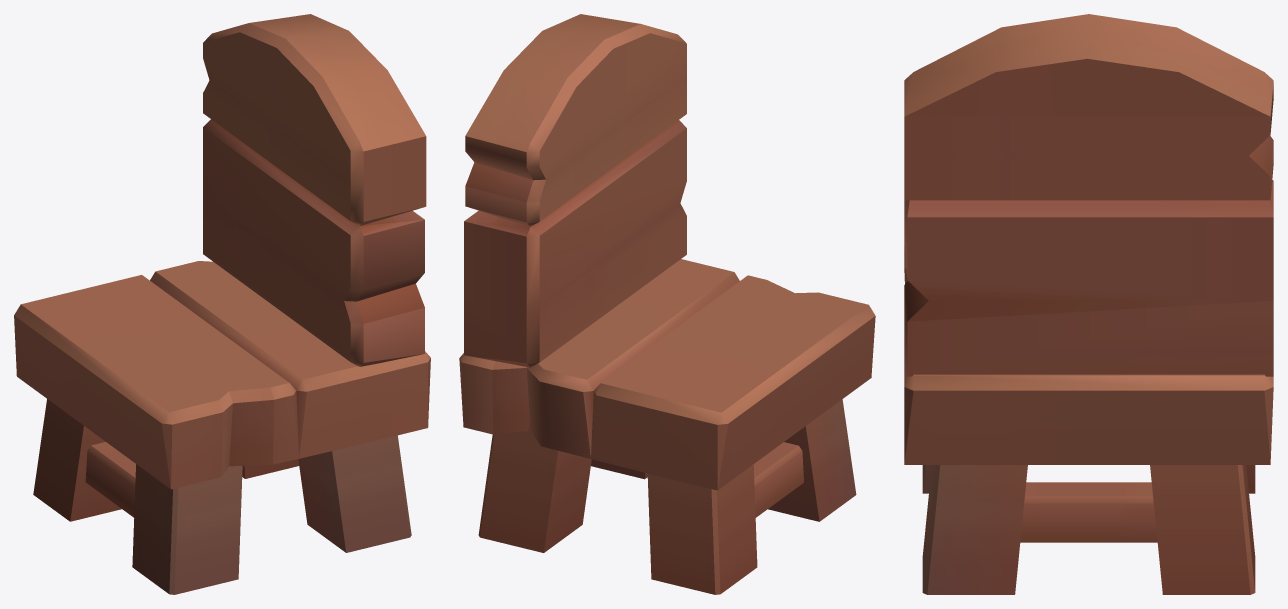
File: kay-cadeira-masmorra.gltf
3 renders of one model, left to right at view 1: azimuth 30°, elevation 25°; view 2: azimuth 150°, elevation 25°; view 3: azimuth 270°, elevation 25°, orthographic. The views are drawn at different scales.
Visible parts, largest first — view 1: chair; view 2: chair; view 3: chair.
Boxes of the visible parts, x1,y1,x2,y2 form: chair: [14, 14, 430, 594]; chair: [459, 14, 875, 594]; chair: [904, 14, 1273, 594].
Bounding box in the file's own units: 0.4875 × 0.7972 × 0.4875.
Materials: 1 (1 with a texture image).
